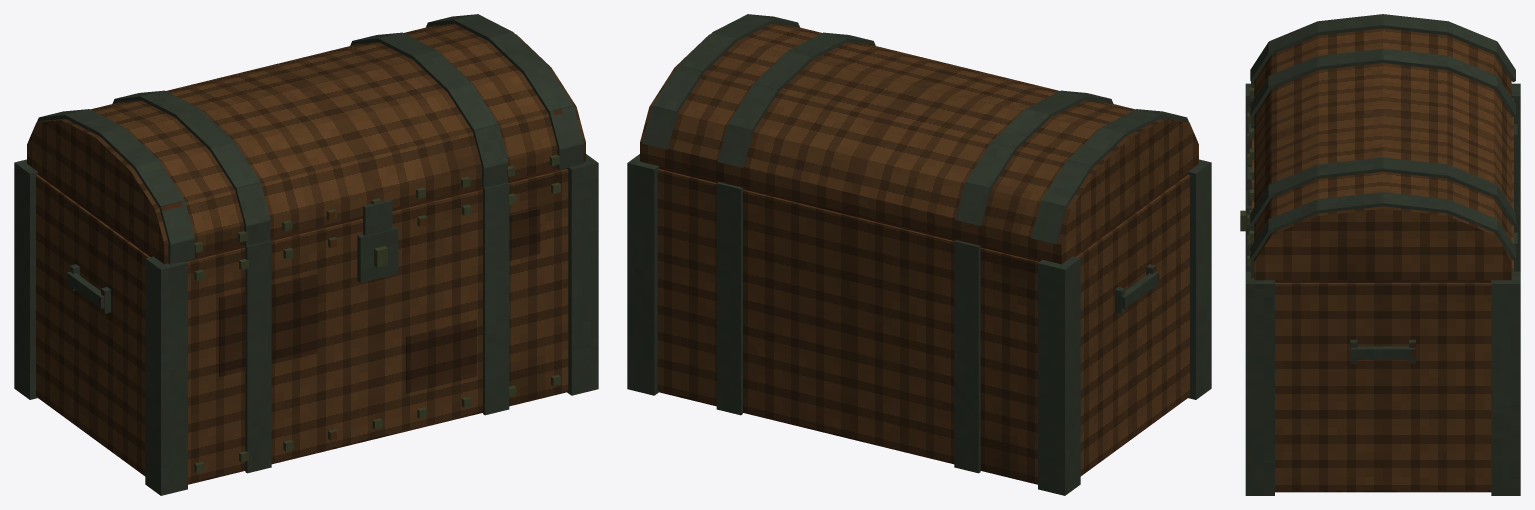
The model's file is bau.glb.
3 views of the same model, side by side, from view 1: azimuth 30°, elevation 25°; view 2: azimuth 150°, elevation 25°; view 3: azimuth 270°, elevation 25° (orthographic). The views are drawn at different scales.
Parts seen in each view (by area): view 1: bau, tampa; view 2: bau, tampa; view 3: tampa, bau.
Part boxes in pixels (x1,y1,x2,y2): bau: [14, 154, 598, 495]; tampa: [27, 14, 585, 264]; bau: [627, 154, 1211, 495]; tampa: [640, 14, 1198, 264]; tampa: [1247, 14, 1515, 280]; bau: [1240, 83, 1520, 495].
Size of the model in its own units: 0.824 by 0.5422 by 0.479.
5 materials, 5 textured.
